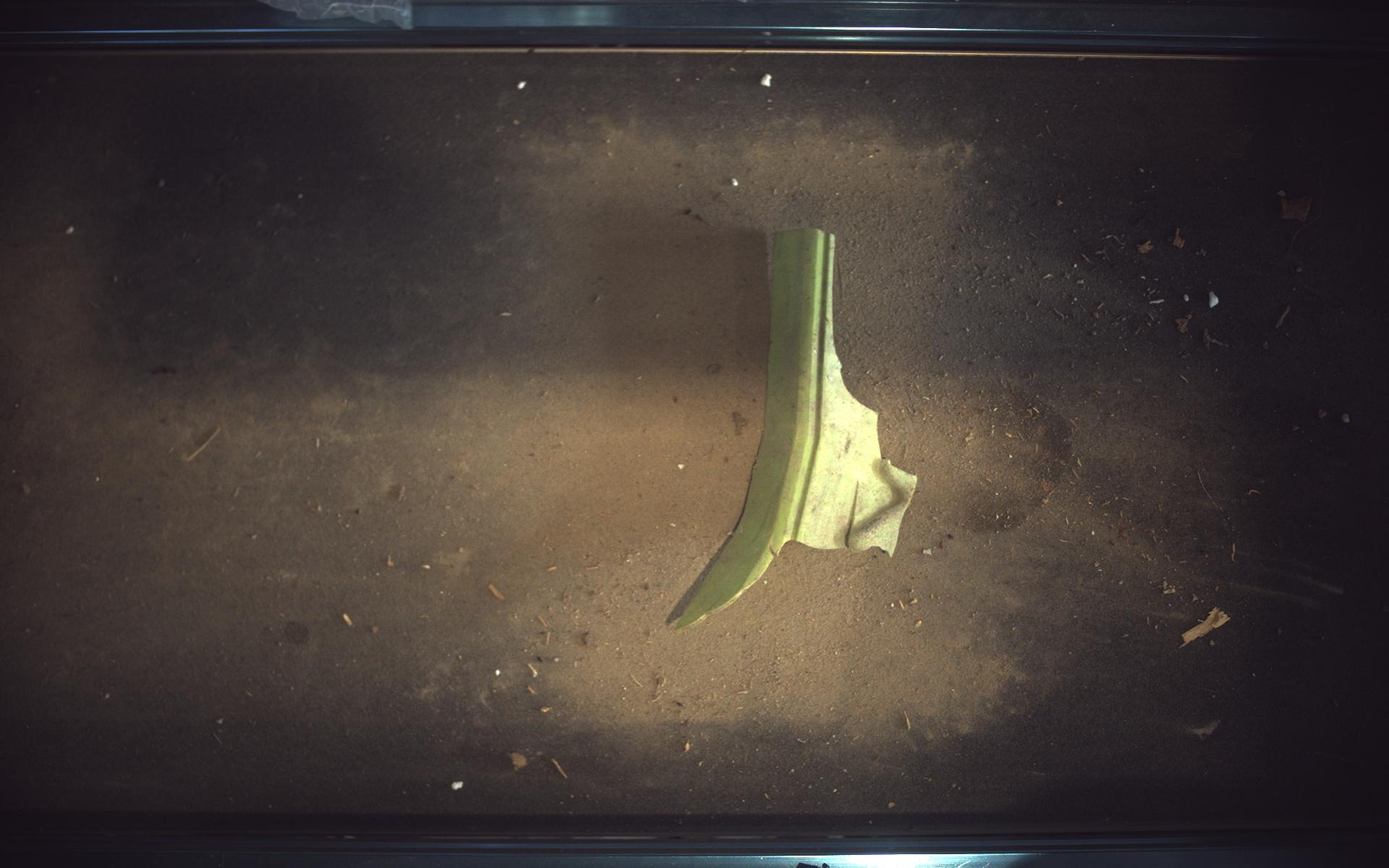plastic: (676, 228, 919, 630)
